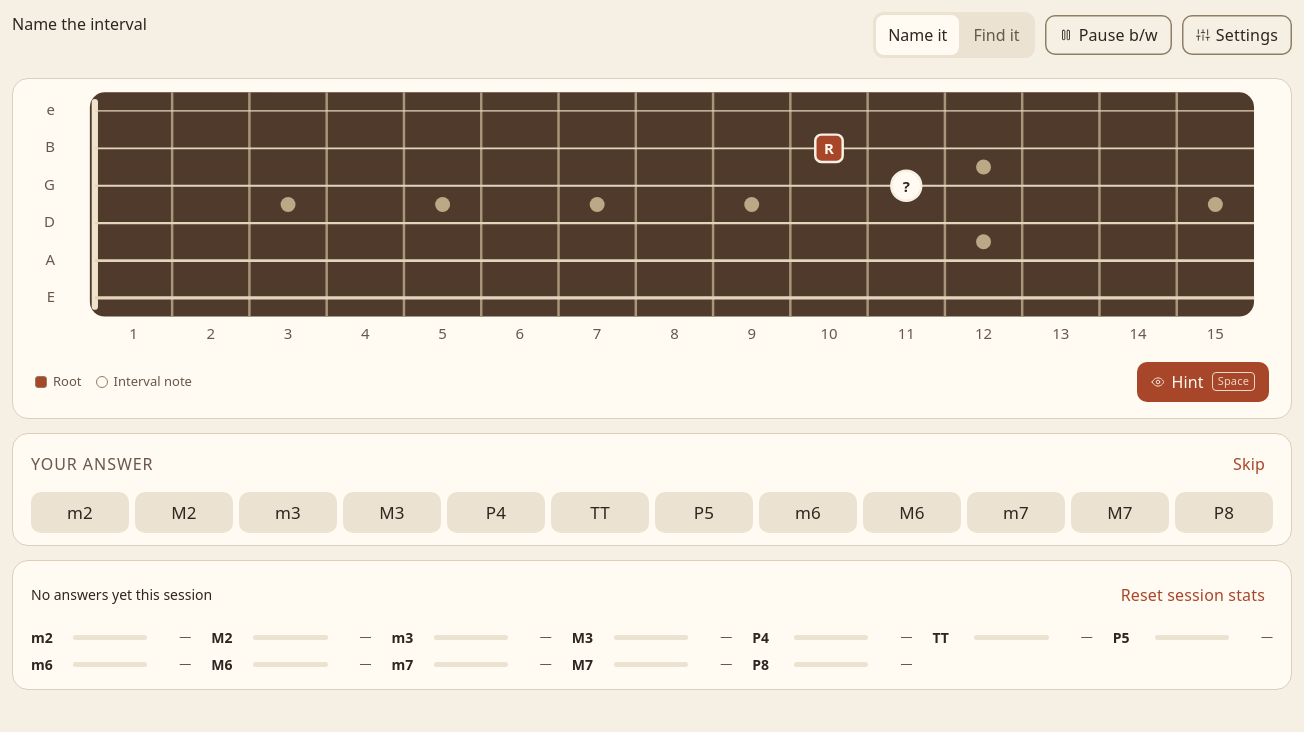
Test: IntervalTrainer › marks a wrong answer red and disabled, then accepts the right one
Click the button "m2": [80, 512] box [31,492,129,532]
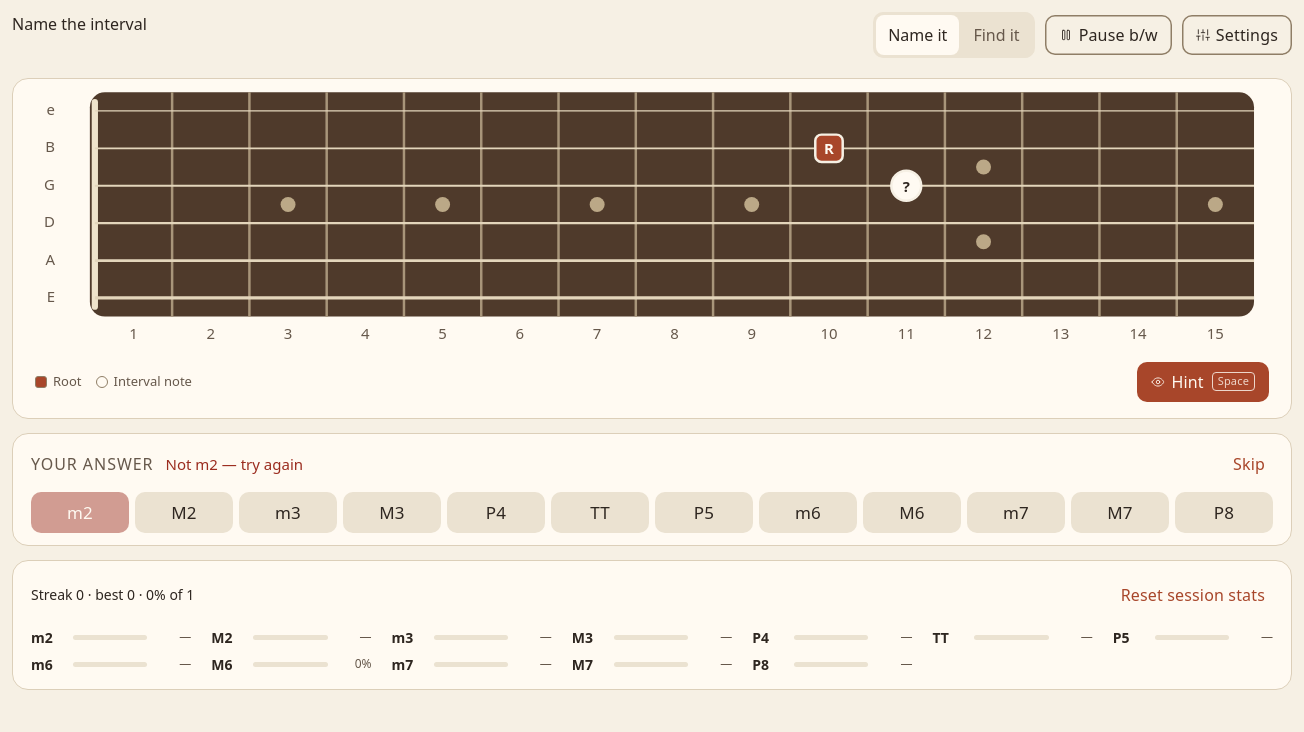
Press 9
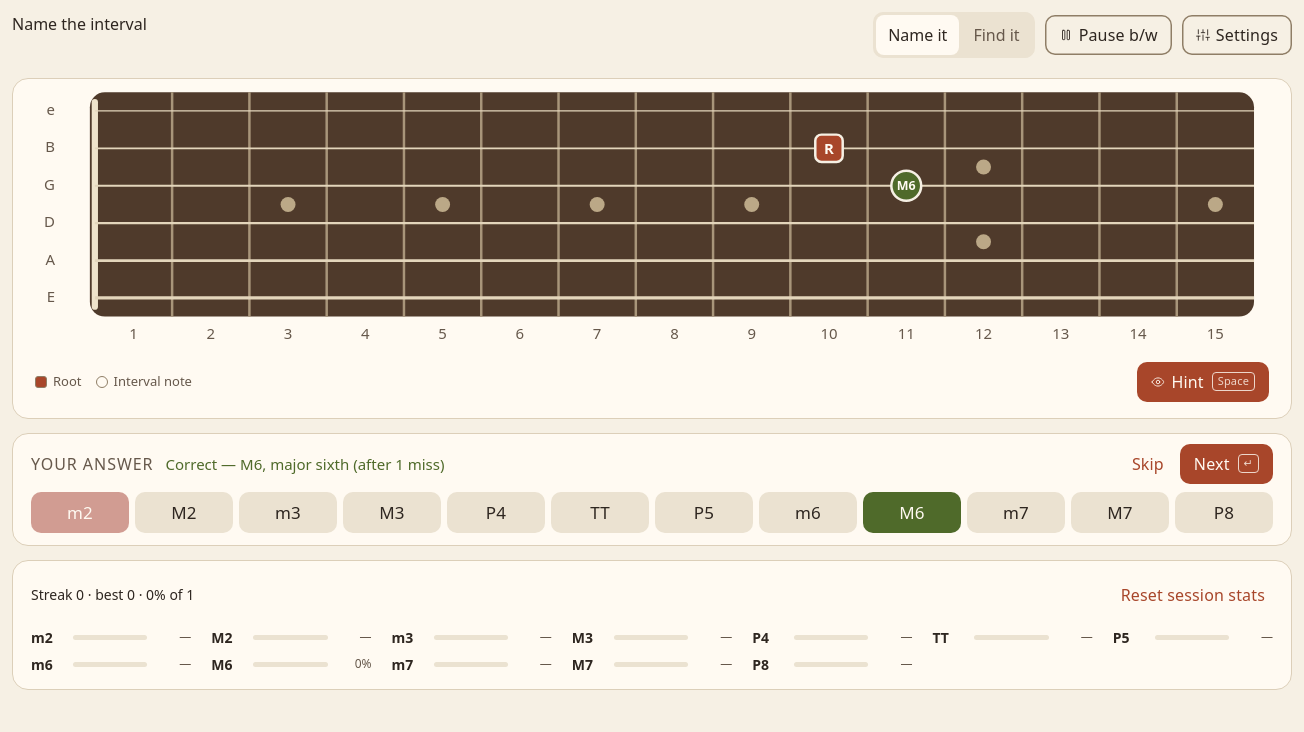
expect the text with test id "stats-line" reads "Streak 0 · best 0 · 0% of 1": met, box [31,585,194,604]
expect the message with test id "feedback" reads "Correct — M6, major sixth (after 1 miss)": met, box [166,454,444,474]
